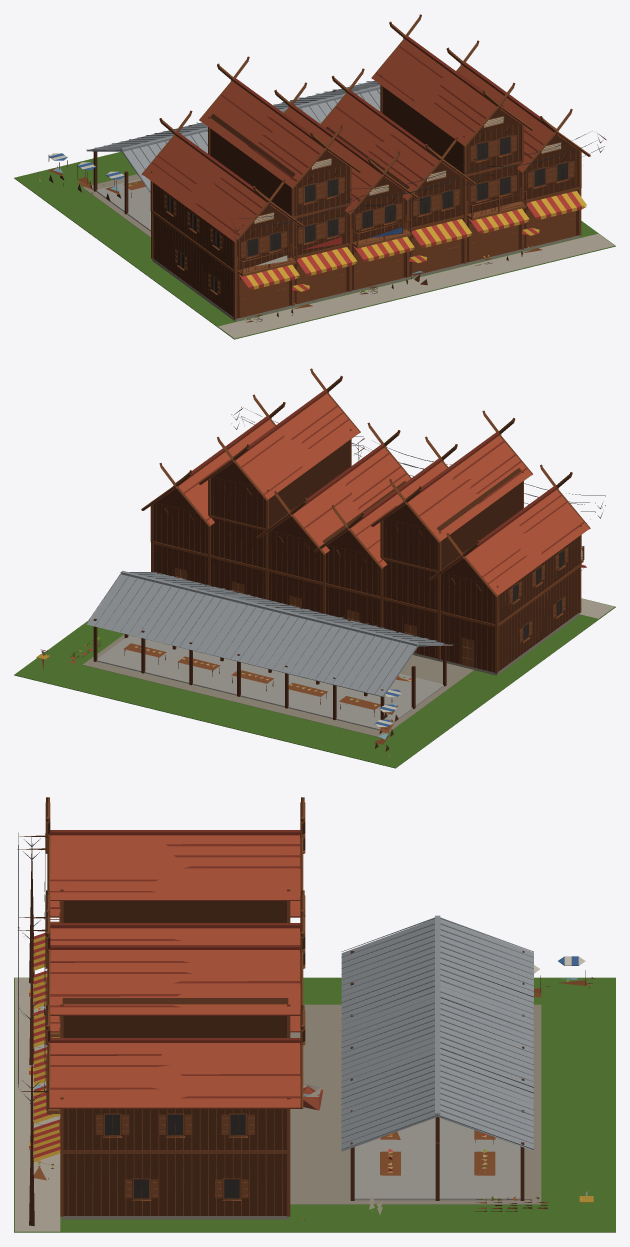
Rendered from shop_5.glb.
3 renders of one model, top to bottom at view 1: azimuth 30°, elevation 25°; view 2: azimuth 150°, elevation 25°; view 3: azimuth 270°, elevation 25°, orthographic. The views are drawn at different scales.
Parts seen in each view (by area): view 1: body, windows; view 2: body; view 3: body, windows.
Part boxes in pixels (box(x1,y1,x2,y2)): body: box(14, 14, 615, 339); windows: box(167, 136, 568, 292); body: box(14, 368, 615, 768); body: box(14, 797, 615, 1232); windows: box(51, 1114, 245, 1198).
Size of the model in its own units: 31.9 by 14.3 by 31.9.
